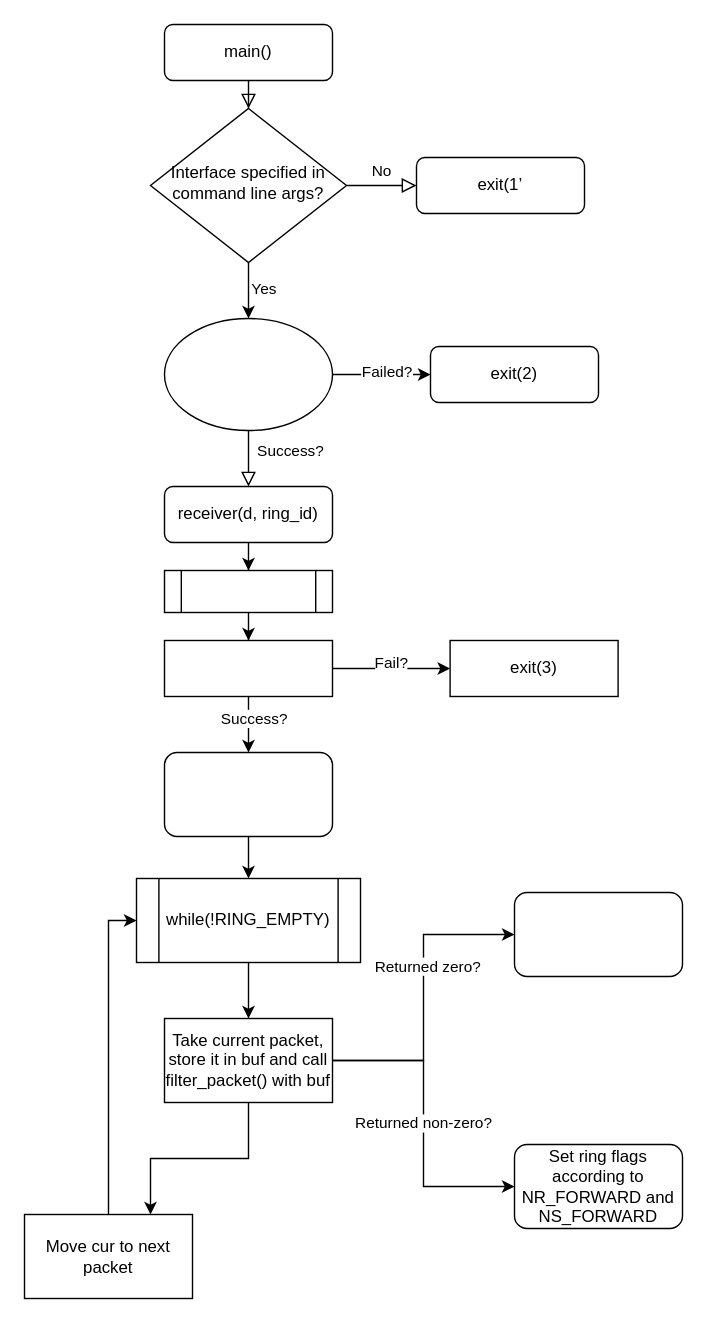
Some shapes in this 707 by 1323 pixel diagram are drawn without their labels. The box of each missing label's shape, as (x1, y1, x2, y2) in pixels:
Drop packet: (513, 891, 682, 976)
Initialize ring variable with RX_RING: (163, 751, 332, 836)
Open netmap interface using argv[1]: (163, 317, 332, 430)
poll(): (163, 639, 332, 696)
while(1): (163, 569, 332, 612)
